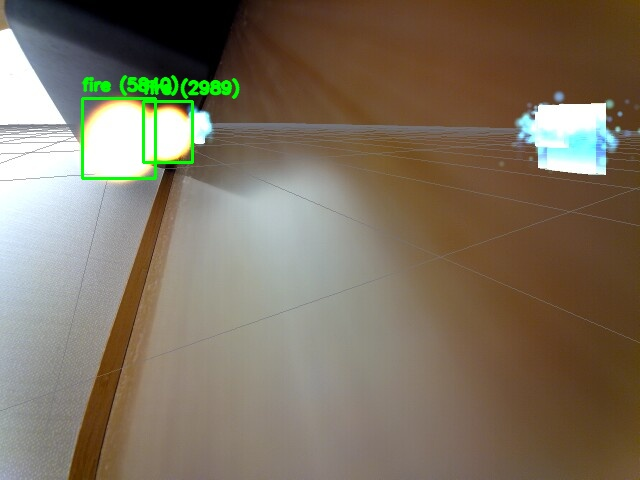fire: (82, 98, 155, 178), (143, 101, 192, 162)
